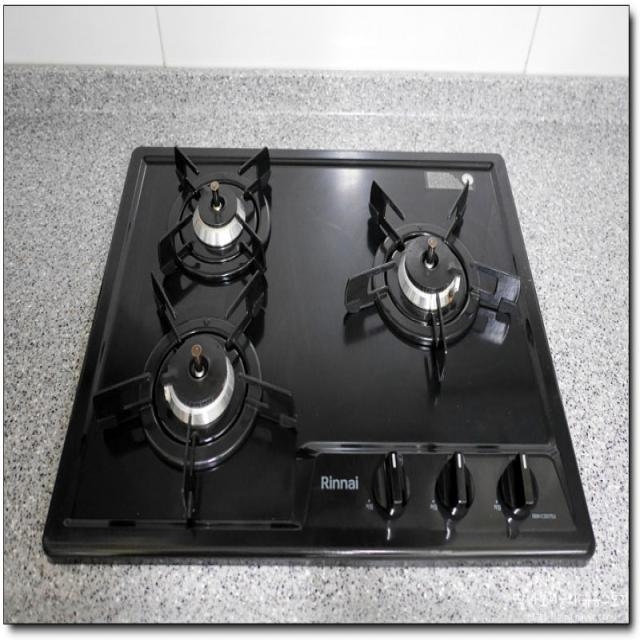knob_ON: (107, 147, 542, 470)
